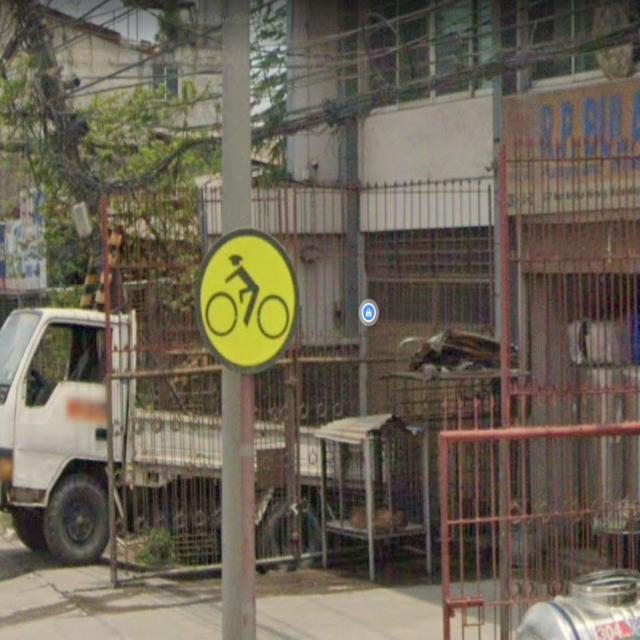bike lane: (194, 228, 298, 373)
